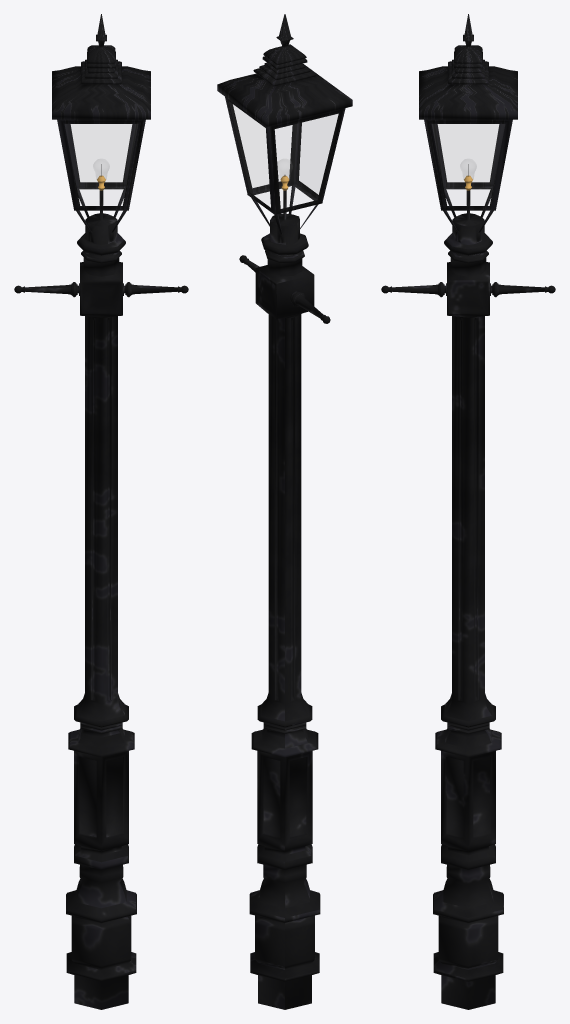
Rendered from lamp_post.glb.
3 renders of one model, left to right at view 1: azimuth 90°, elevation 25°; view 2: azimuth 210°, elevation 25°; view 3: azimuth 270°, elevation 25°, orthographic.
Visible parts, largest first — view 1: Circle; view 2: Circle; view 3: Circle.
Boxes of the visible parts, bbox=[...] form: Circle: bbox=[14, 14, 188, 1009]; Circle: bbox=[217, 14, 352, 1009]; Circle: bbox=[381, 14, 555, 1009].
Size of the model in its own units: 0.2562 by 2.81 by 0.4517.
4 materials, 1 textured.
